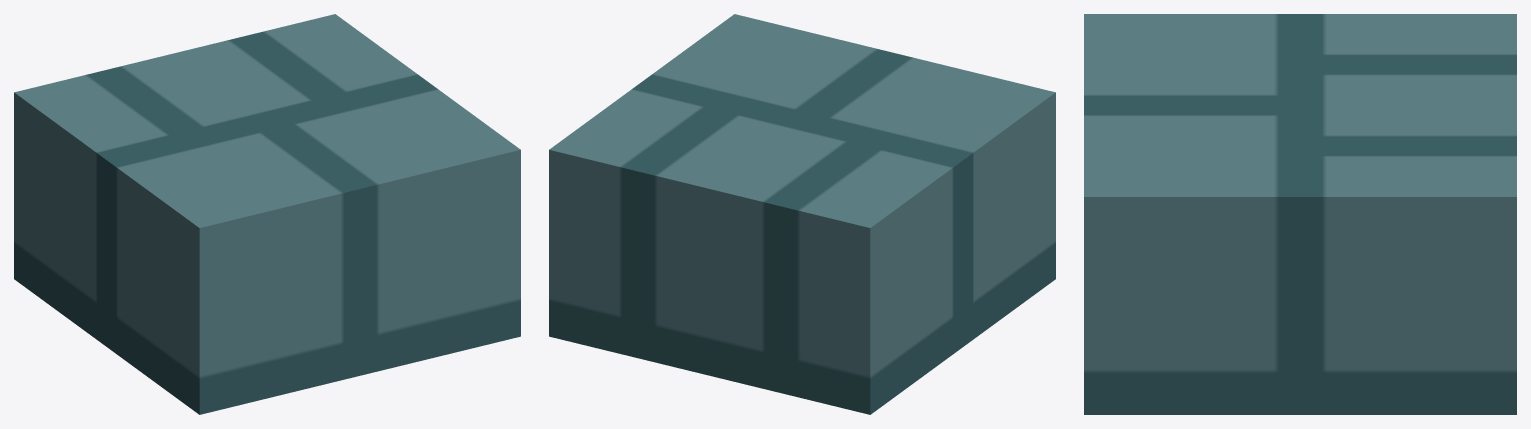
File: fbBrickHalf.fbx
The picture shows the model from 3 angles, left to right: view 1: azimuth 30°, elevation 25°; view 2: azimuth 150°, elevation 25°; view 3: azimuth 270°, elevation 25°; orthographic projection. The views are drawn at different scales.
Parts seen in each view (by area): view 1: fbBrick_01_Half; view 2: fbBrick_01_Half; view 3: fbBrick_01_Half.
Part boxes in pixels (x1,y1,x2,y2): fbBrick_01_Half: (14,14,520,414); fbBrick_01_Half: (549,14,1055,414); fbBrick_01_Half: (1084,14,1516,414).
Bounding box in the file's own units: 9 × 5 × 9.
